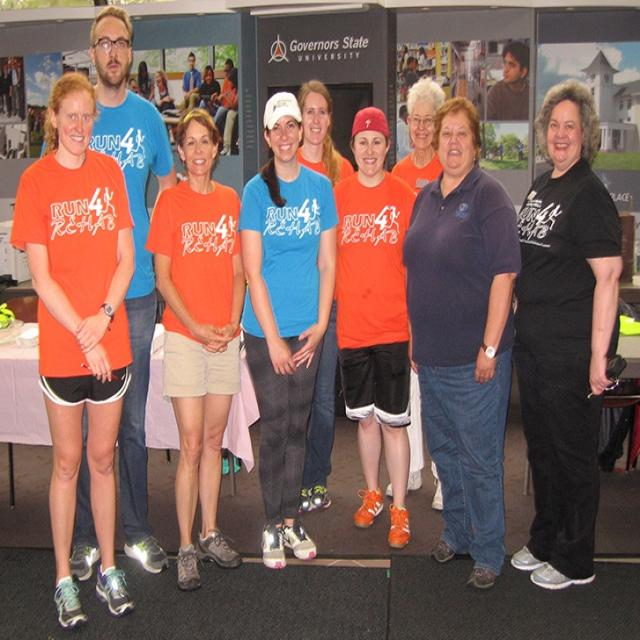body: (37, 3, 177, 584), (8, 71, 138, 629), (503, 77, 626, 591), (0, 39, 530, 157), (400, 94, 522, 596), (237, 88, 341, 578), (144, 107, 246, 592), (329, 108, 420, 552), (386, 78, 447, 513), (294, 79, 355, 513)
